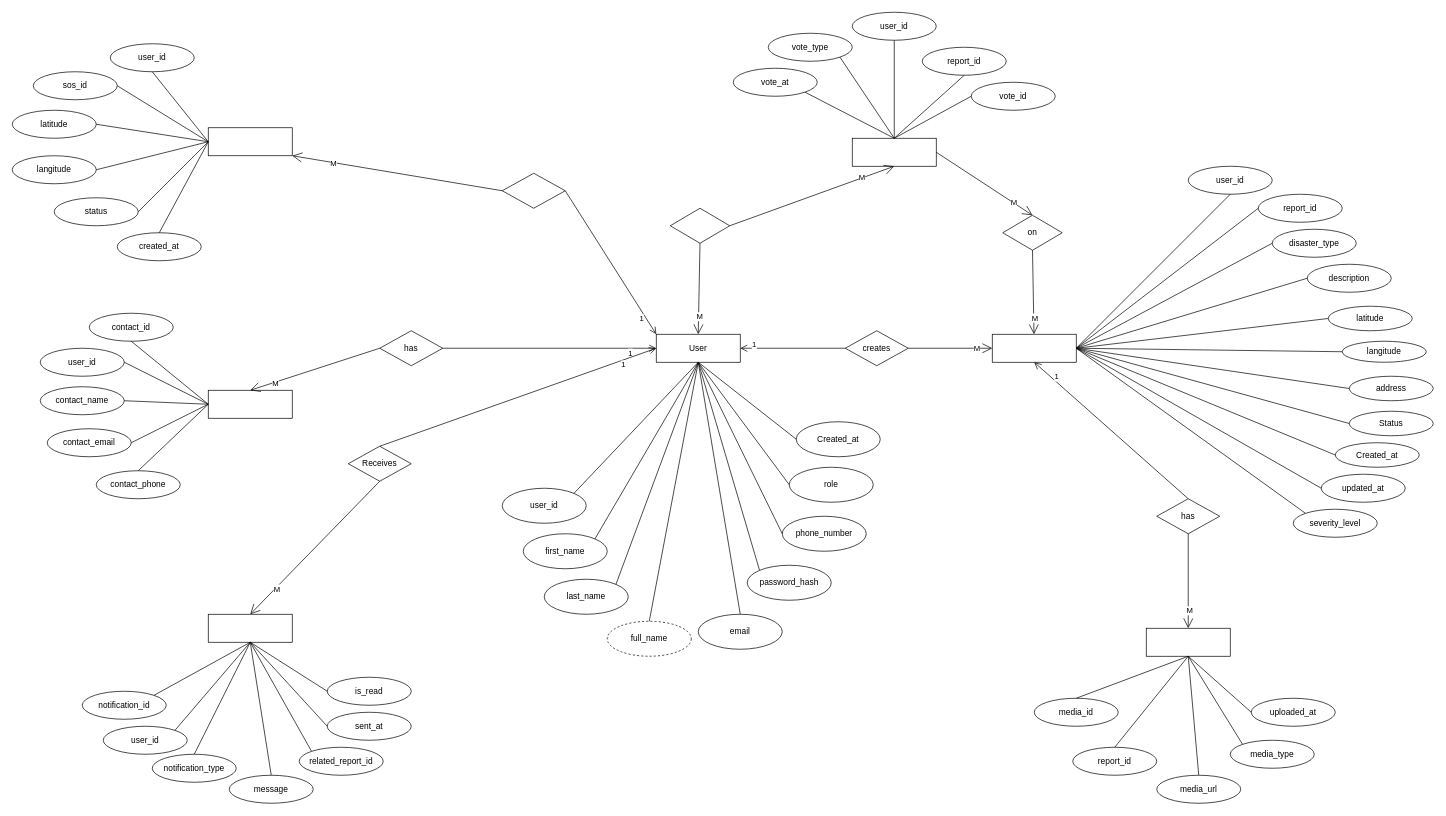
This 1446x816 diagram has some shape labels left out. The shapes that lost their labels are listed below. From the top down, each one's centre as x and y in pixels, then its label:
pixel 250 141: SOSAlert
pixel 894 152: Vote
pixel 533 190: Triggers
pixel 700 225: votes
pixel 1034 348: DisasterReport
pixel 250 404: EmergencyContact
pixel 250 628: Notification
pixel 1188 642: Media
